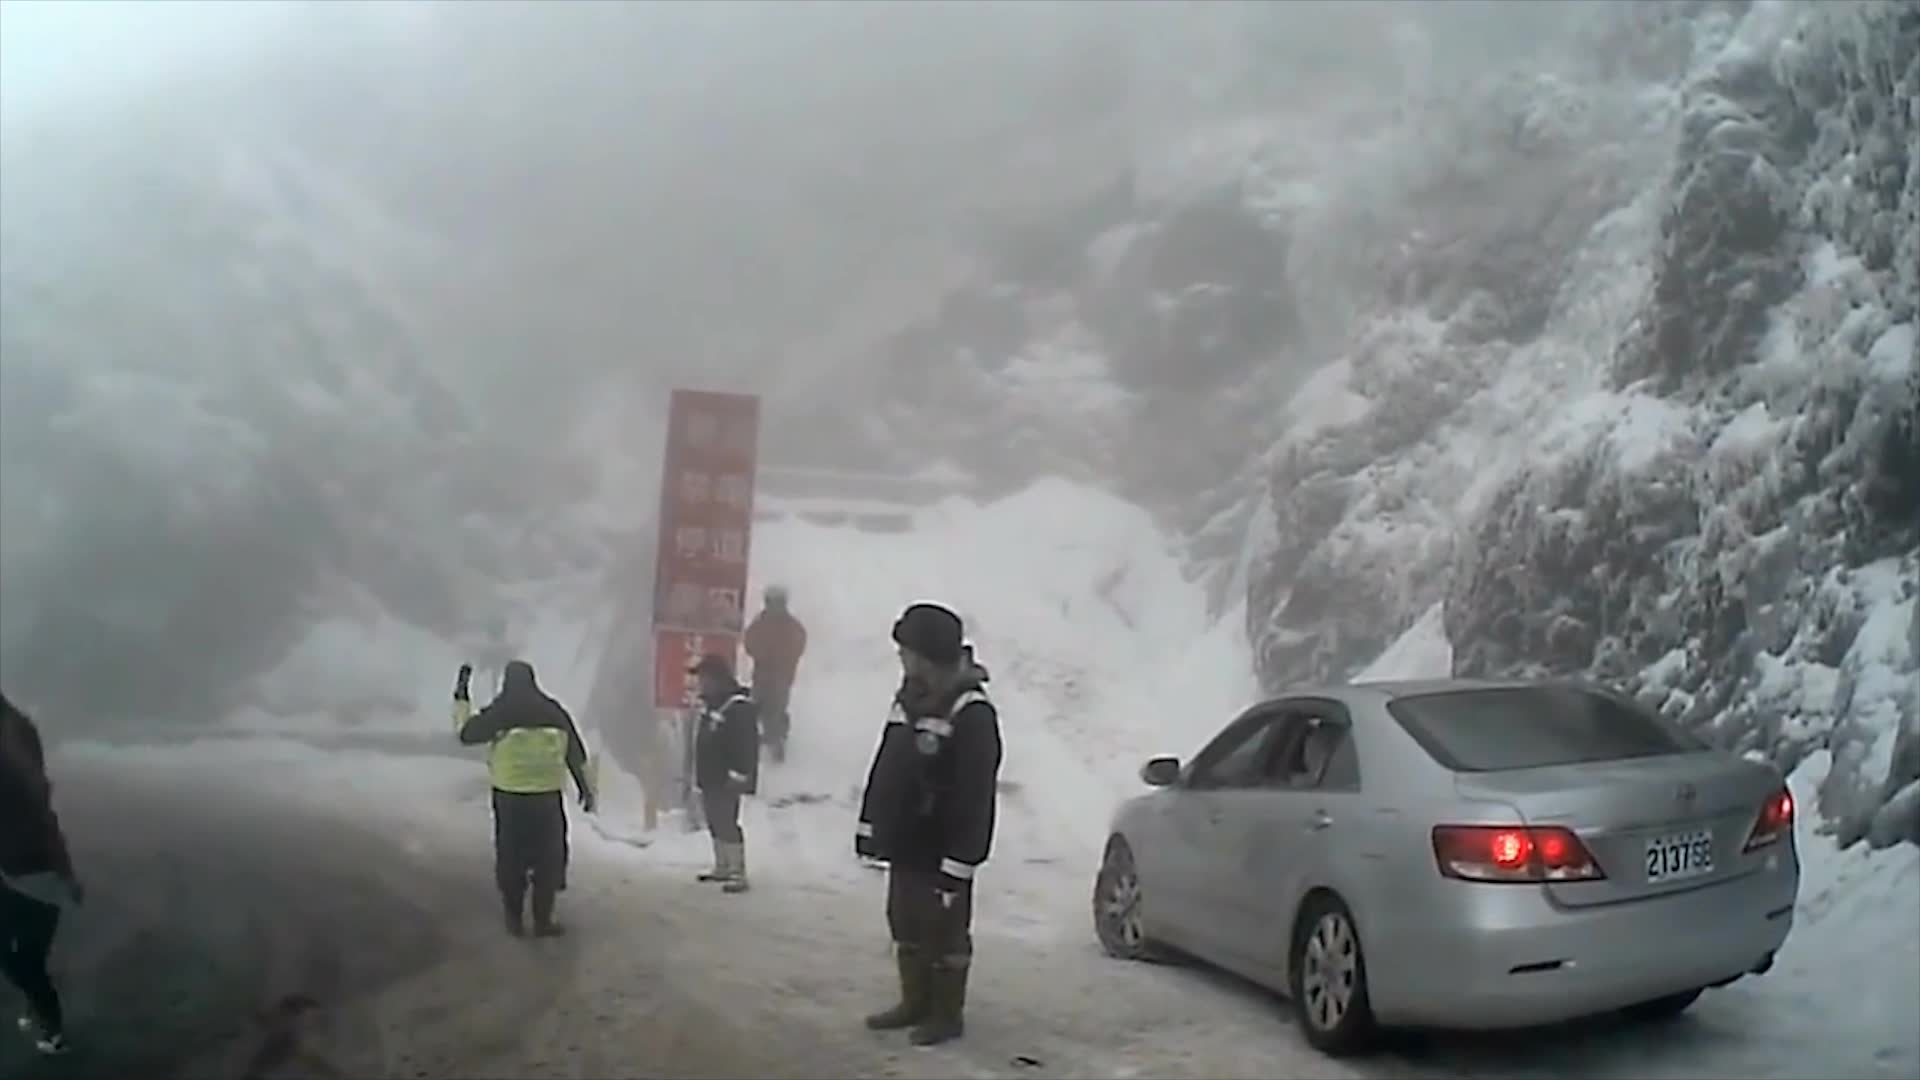pedestrian: (854, 604, 1002, 1047), (435, 664, 594, 937), (1, 665, 99, 1060), (684, 655, 765, 895), (743, 580, 816, 767)
vehicle: (1091, 669, 1800, 1050)
